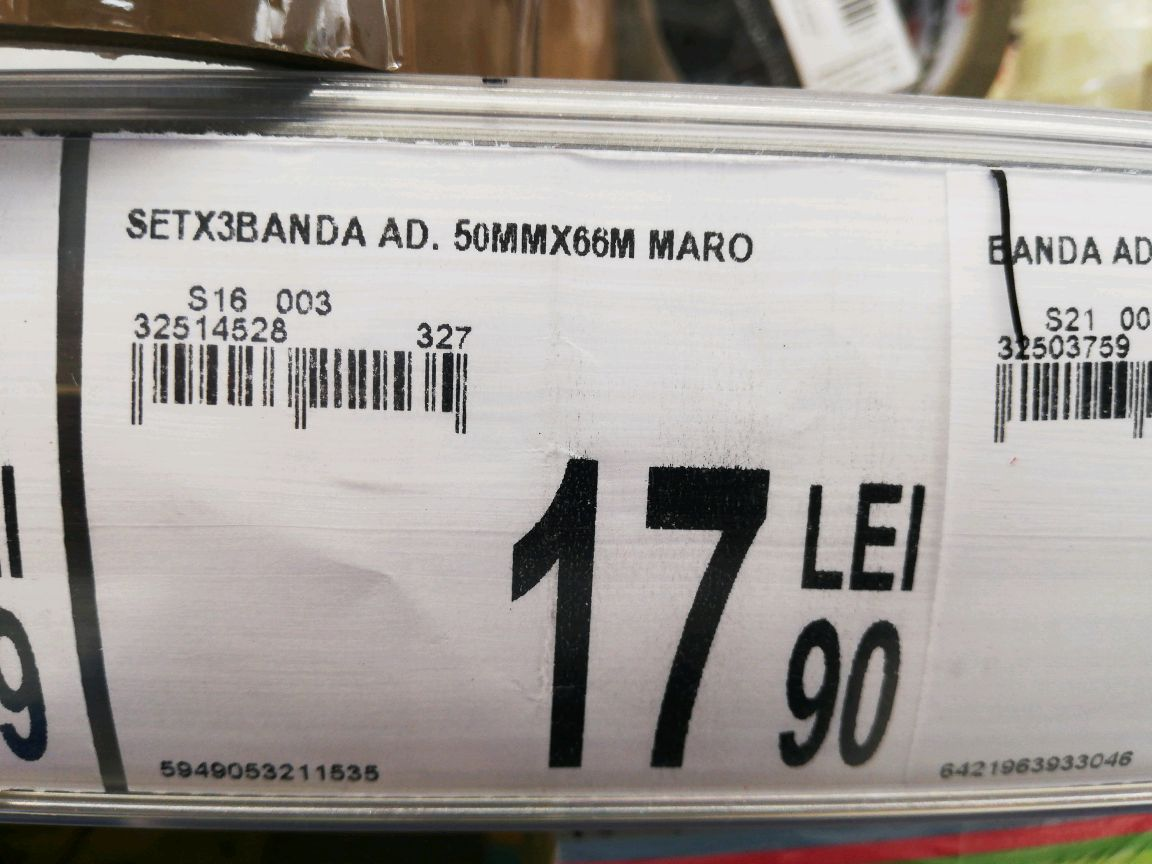price_bani: (768, 608, 910, 776)
price_lei: (493, 453, 775, 788)
price_tag: (73, 120, 939, 809)
product_id: (152, 750, 391, 788)
product_name: (102, 195, 782, 277)
